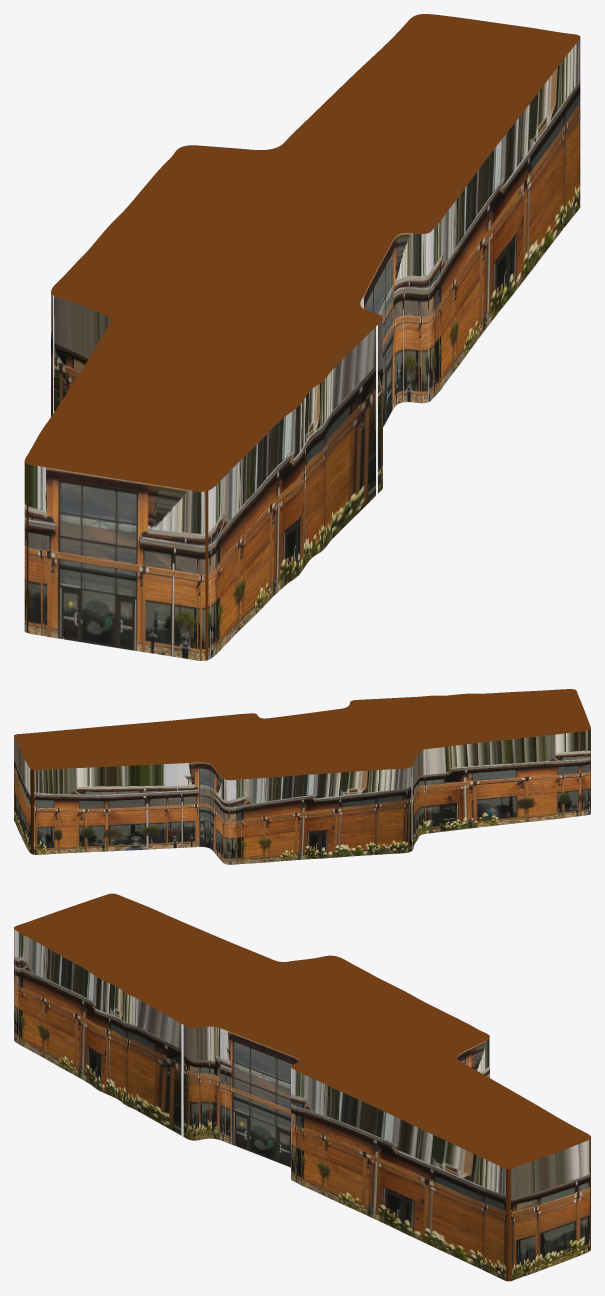
The model's file is GirlsDorm.glb.
3 views of the same model, one above another, from view 1: azimuth 30°, elevation 25°; view 2: azimuth 150°, elevation 25°; view 3: azimuth 270°, elevation 25° (orthographic). The views are drawn at different scales.
Parts seen in each view (by area): view 1: Shell, Front, Left, Back; view 2: Back, Shell, Right; view 3: Front, Shell, Right, Back.
Part boxes in pixels (left/top/right/bottom): Shell: left=24, top=14, right=580, bottom=660; Front: left=208, top=38, right=580, bottom=659; Left: left=28, top=464, right=205, bottom=660; Back: left=24, top=292, right=110, bottom=632; Back: left=34, top=730, right=590, bottom=864; Shell: left=14, top=689, right=590, bottom=854; Right: left=14, top=736, right=30, bottom=853; Front: left=14, top=929, right=505, bottom=1280; Shell: left=14, top=893, right=590, bottom=1281; Right: left=511, top=1139, right=589, bottom=1280; Back: left=457, top=1037, right=489, bottom=1077.
Size of the model in its own units: 1.78 by 0.3385 by 1.58.
Materials: 2 (1 with a texture image).
